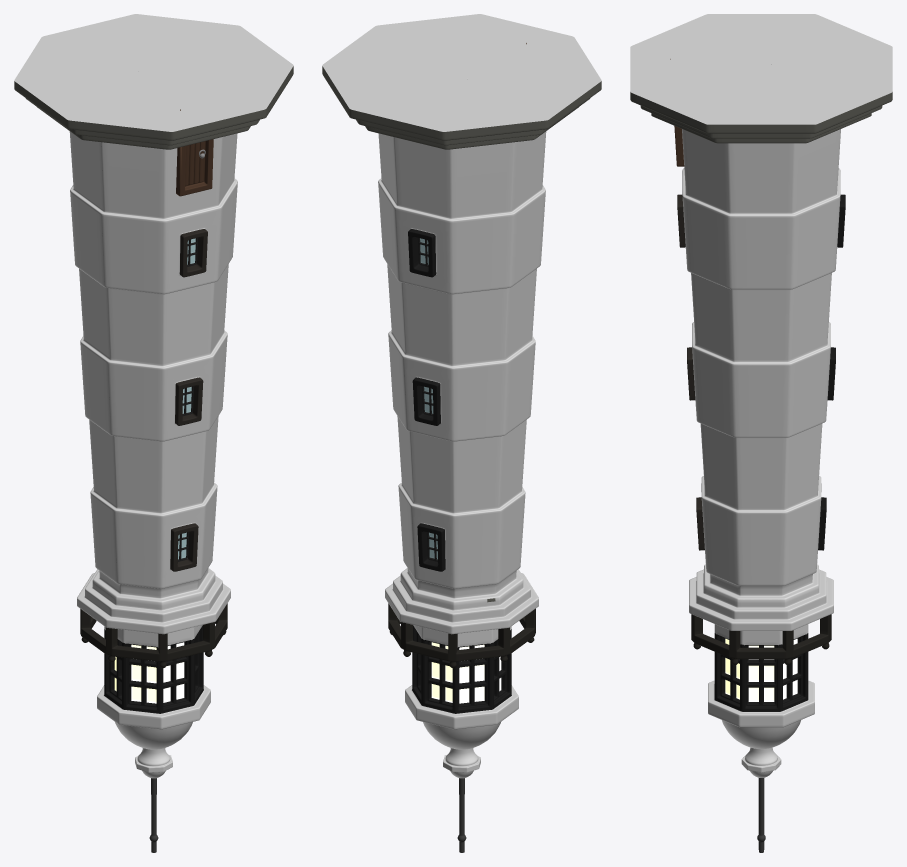
The model's file is lighthouse.glb.
3 renders of one model, left to right at view 1: azimuth 30°, elevation 25°; view 2: azimuth 150°, elevation 25°; view 3: azimuth 270°, elevation 25°, orthographic.
Visible parts, largest first — view 1: 17498_Octagonal_Lighthouse_v1_NEW; view 2: 17498_Octagonal_Lighthouse_v1_NEW; view 3: 17498_Octagonal_Lighthouse_v1_NEW.
Boxes of the visible parts, x1,y1,x2,y2 form: 17498_Octagonal_Lighthouse_v1_NEW: [14, 14, 293, 852]; 17498_Octagonal_Lighthouse_v1_NEW: [322, 14, 601, 852]; 17498_Octagonal_Lighthouse_v1_NEW: [630, 14, 892, 852].
Bounding box in the file's own units: 758 × 2502 × 758.
